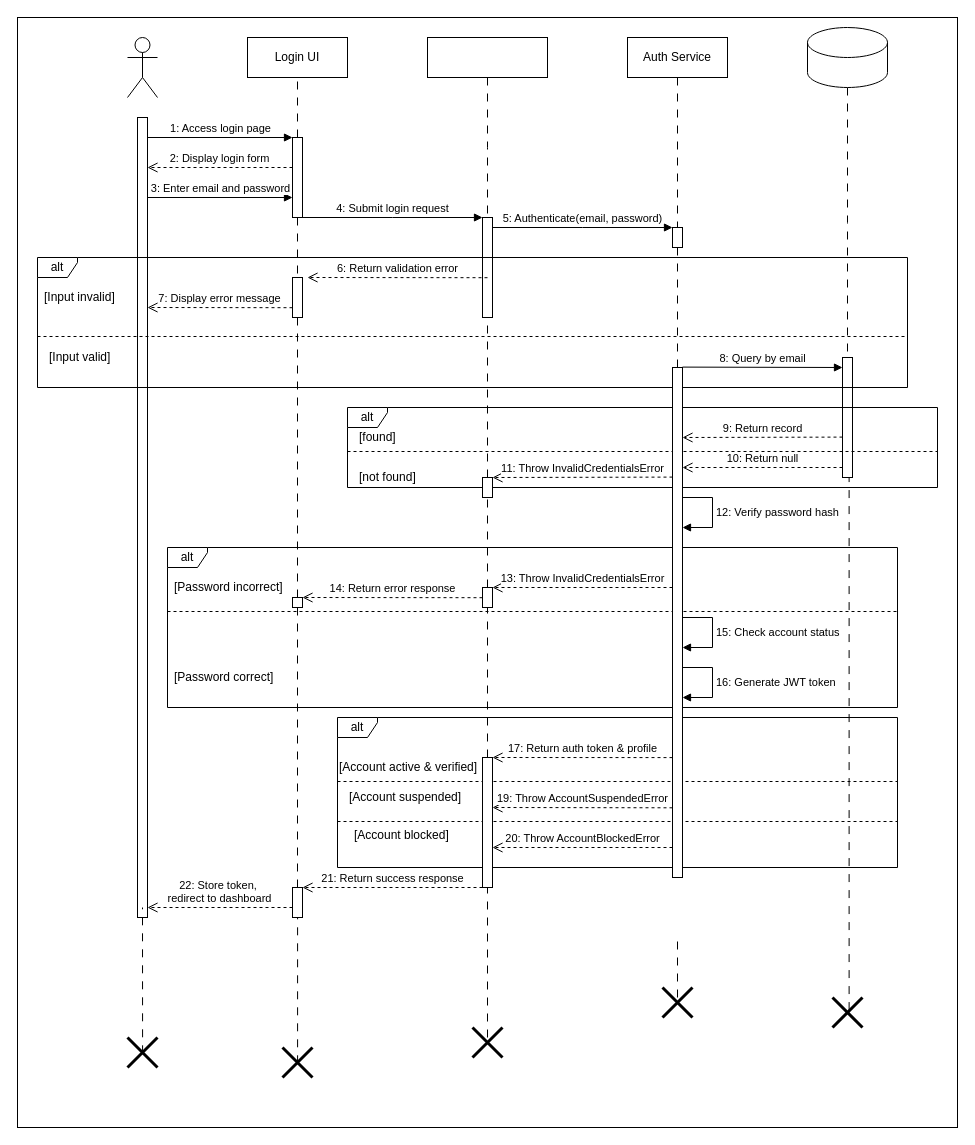
Some shapes in this 975 by 1145 pixel diagram are drawn without their labels. The centre of each missing label's shape, as x and y in pixels:
"Auth Controller" belongs at point (487, 57).
"Database" belongs at point (847, 57).
"User" belongs at point (142, 67).
